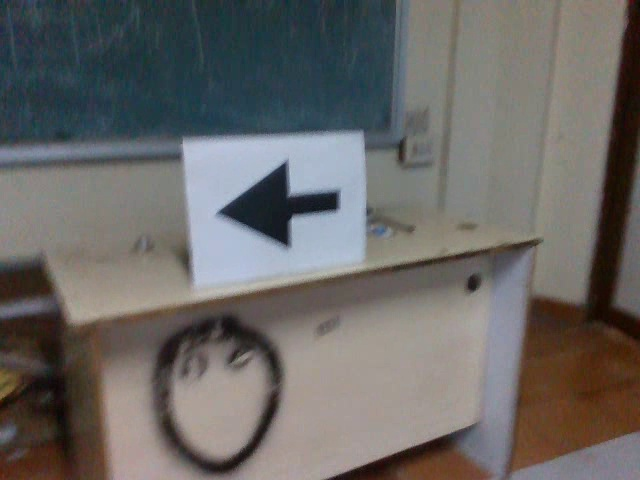Left: (208, 154, 344, 254)
